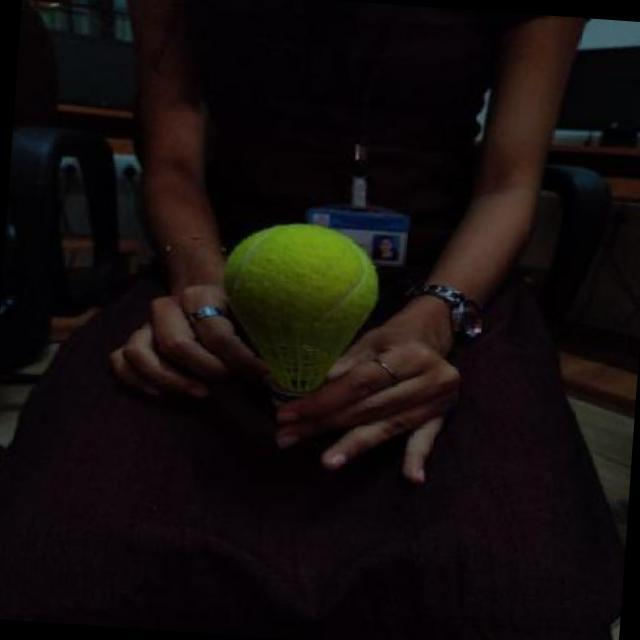-: (205, 213, 396, 350)
